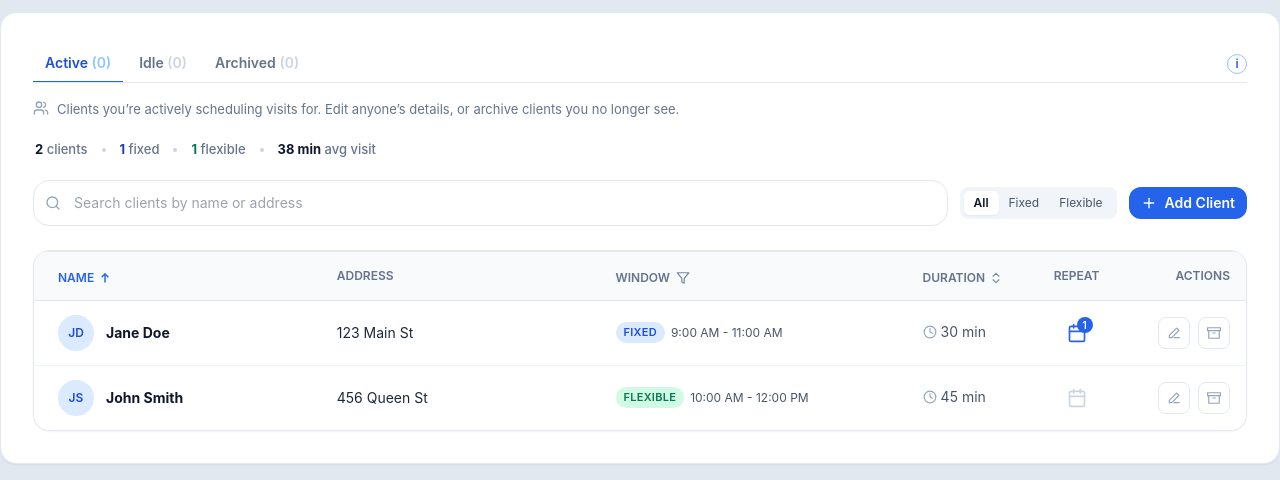
Test: PatientsPage › filters via the All/Fixed/Flexible toggle and shows the repeat badge
This screenshot has width=1280, height=480.
Expected: the element titled "1 active recurring template" is shown, [1067,323,1087,343]
Filter to Fixed → the flexible client drops out
Click the button "Fixed": coordinates (1024, 203) [998,191,1049,215]
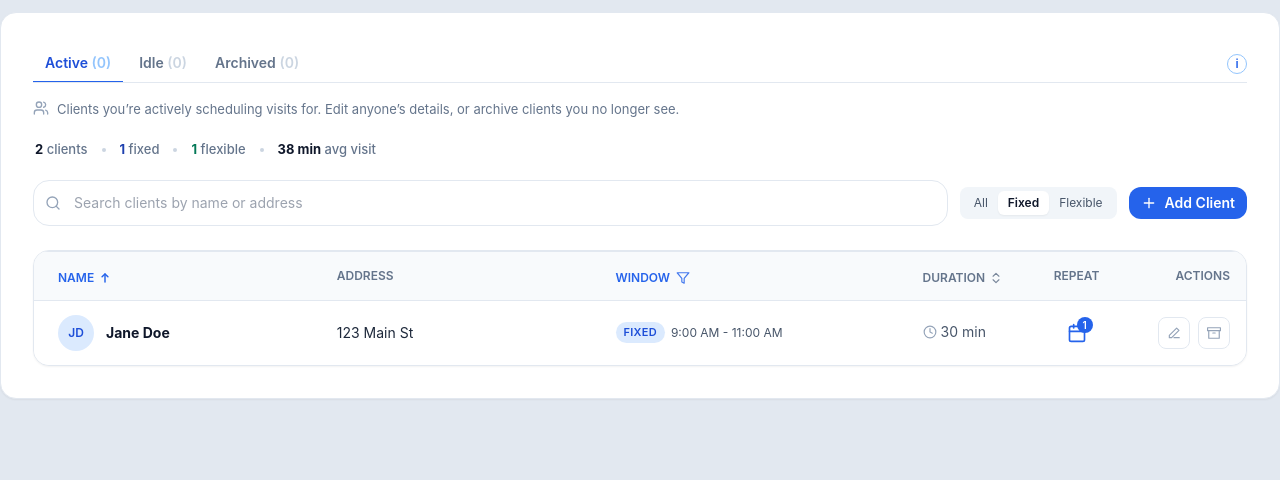
Expected: the text "John Smith" is gone
